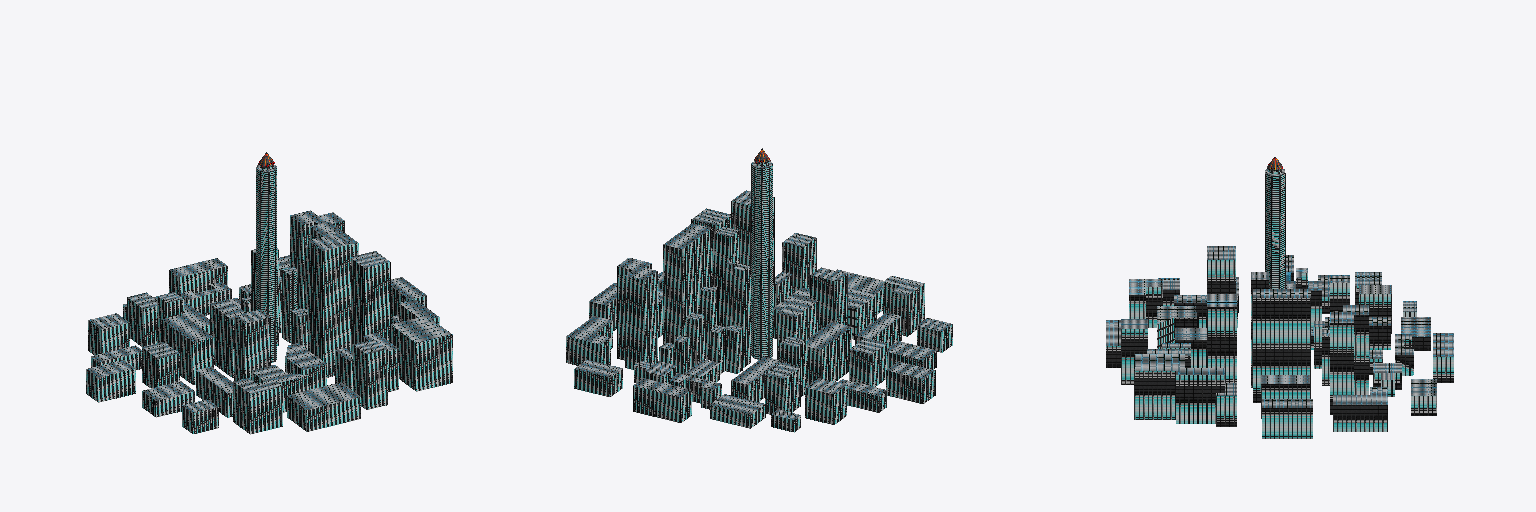
3 views of the same model, side by side, from view 1: azimuth 30°, elevation 25°; view 2: azimuth 150°, elevation 25°; view 3: azimuth 270°, elevation 25° (orthographic).
Visible parts, largest first — view 1: SketchUp_038_ID236.001_Green.002, SketchUp_038_ID236.001_black.002, SketchUp_038_ID236.001_Green.000; view 2: SketchUp_038_ID236.001_Green.002, SketchUp_038_ID236.001_black.002, SketchUp_038_ID236.001_Green.000; view 3: SketchUp_038_ID236.001_Green.002, SketchUp_038_ID236.001_black.002, SketchUp_038_ID236.001_Green.000.
Part boxes in pixels (x1,y1,x2,y2): SketchUp_038_ID236.001_Green.002: (86, 166, 452, 434); SketchUp_038_ID236.001_black.002: (87, 165, 452, 412); SketchUp_038_ID236.001_Green.000: (256, 168, 276, 362); SketchUp_038_ID236.001_Green.002: (566, 162, 952, 432); SketchUp_038_ID236.001_black.002: (567, 161, 951, 419); SketchUp_038_ID236.001_Green.000: (751, 164, 772, 359); SketchUp_038_ID236.001_Green.002: (1106, 170, 1453, 438); SketchUp_038_ID236.001_black.002: (1106, 169, 1453, 407); SketchUp_038_ID236.001_Green.000: (1265, 173, 1285, 288).
Bounding box in the file's own units: 83.2 × 50.86 × 77.33.
Materials: 4 (3 with a texture image).